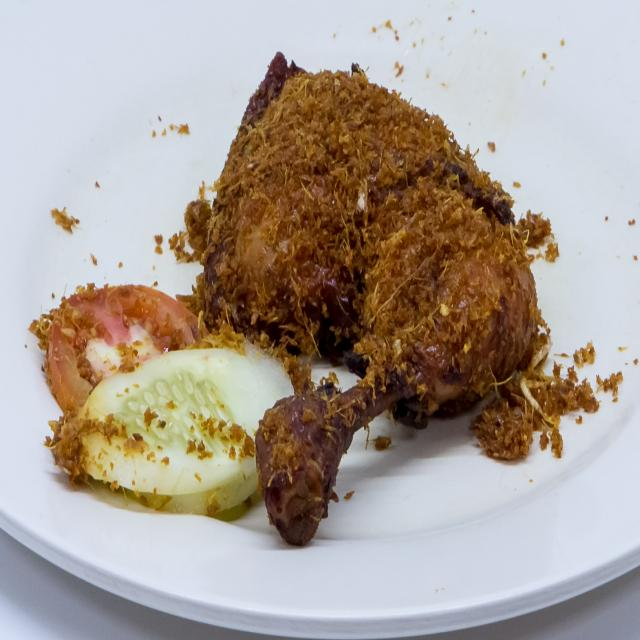Ayam-Goreng-Lengkuas: (188, 35, 551, 553)
